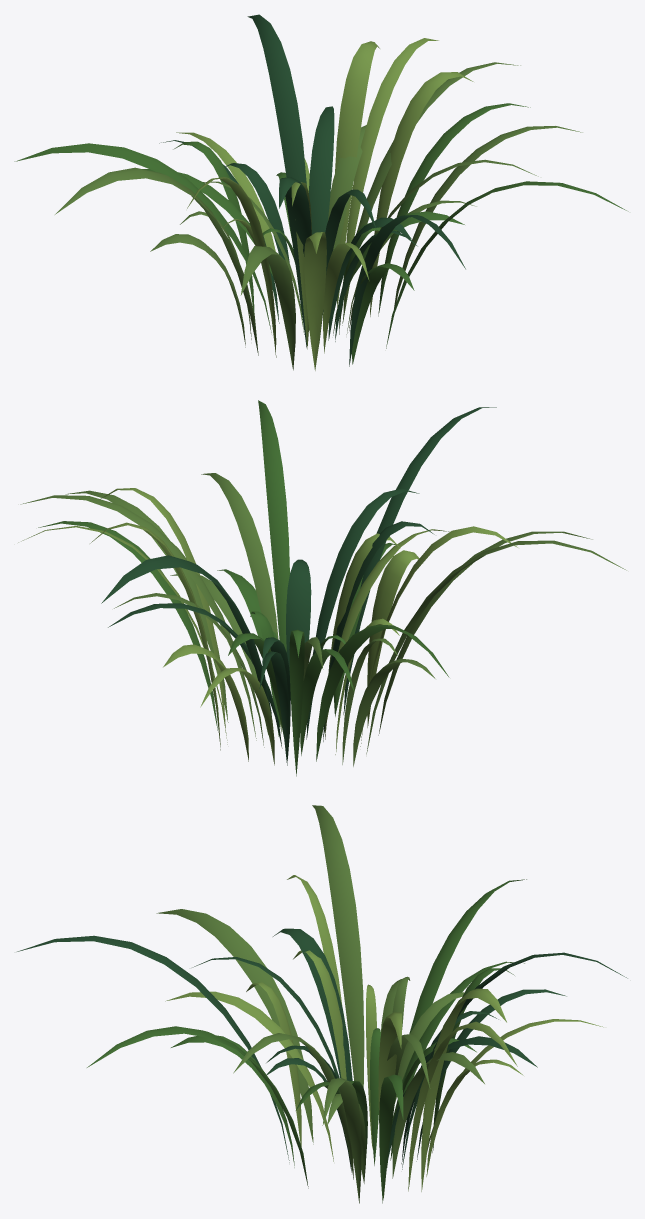
File: meadow_grass_short.hi.glb
3 views of the same model, one above another, from view 1: azimuth 30°, elevation 25°; view 2: azimuth 150°, elevation 25°; view 3: azimuth 270°, elevation 25° (orthographic). The views are drawn at different scales.
Parts seen in each view (by area): view 1: body; view 2: body; view 3: body.
Part boxes in pixels (<box>): body: <box>14,14,628,370</box>; body: <box>18,400,626,776</box>; body: <box>17,805,627,1203</box>.
Bounding box in the file's own units: 0.6684 × 0.2792 × 0.6517.
